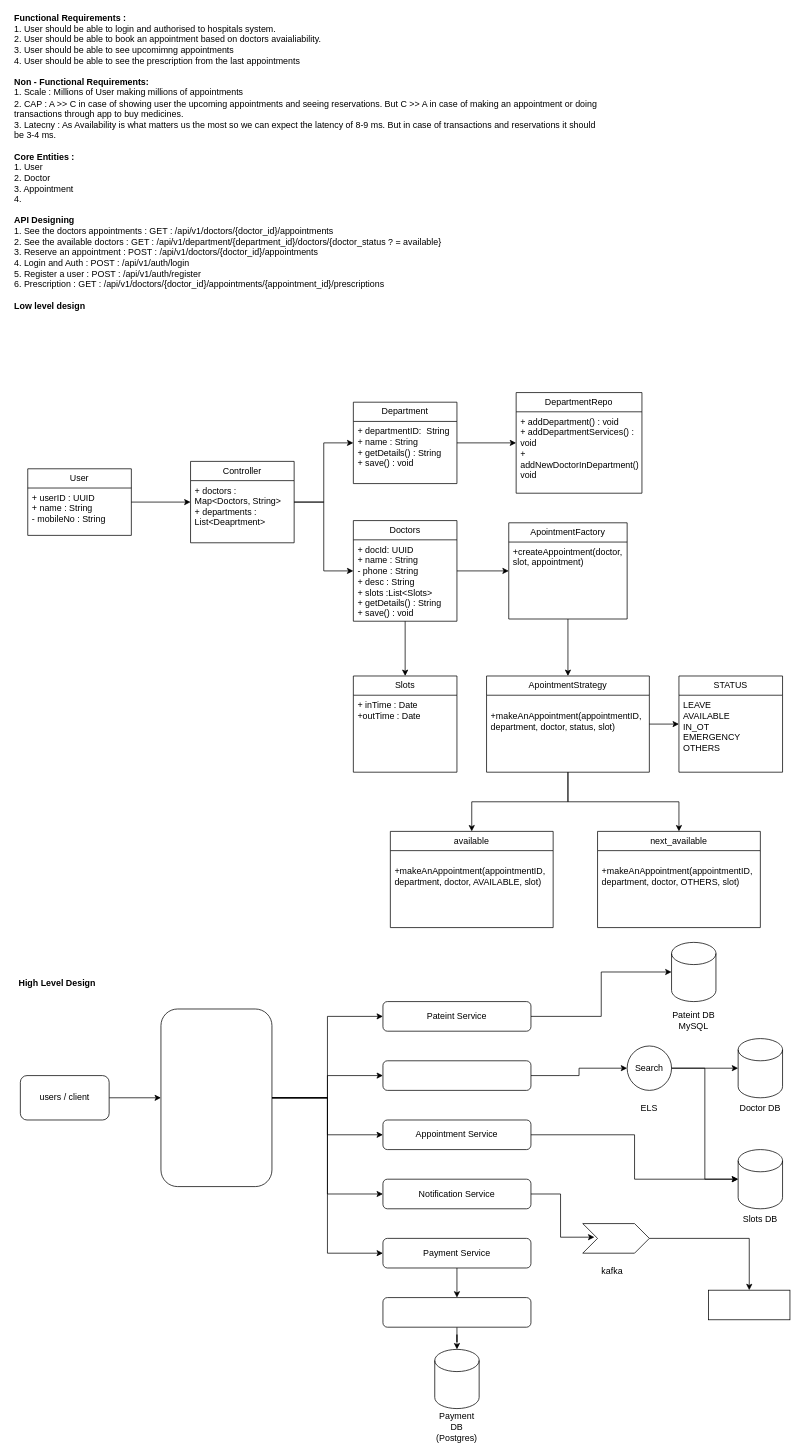
Some shapes in this 803 by 1456 pixel diagram are drawn without their labels. The shapes that lost their labels are listed below. From the top down, each one's centre as x and y in pixels, then its label:
(x=456, y=1075): Doctor Service
(x=216, y=1097): LB + API Gateway - Rate Limiting -Round Robin - authorization -authentication
(x=456, y=1312): Payment Gateway
(x=749, y=1304): Notification Type (Push, email, STP)
